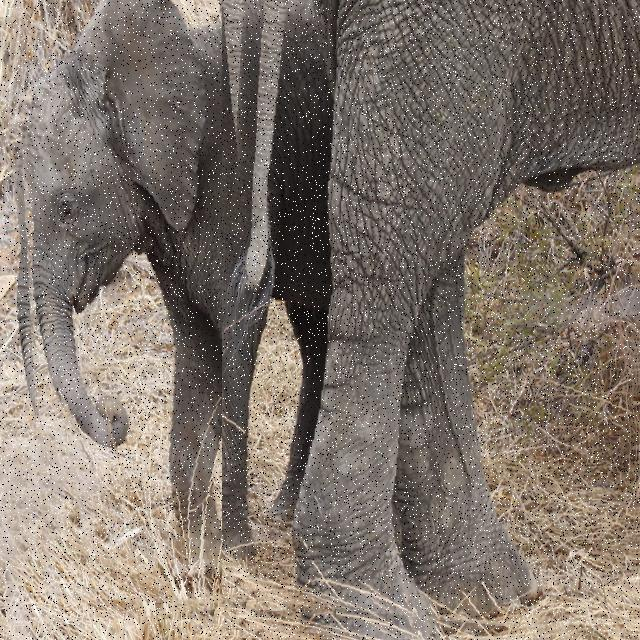elephant: (222, 0, 640, 640), (13, 0, 336, 617)
